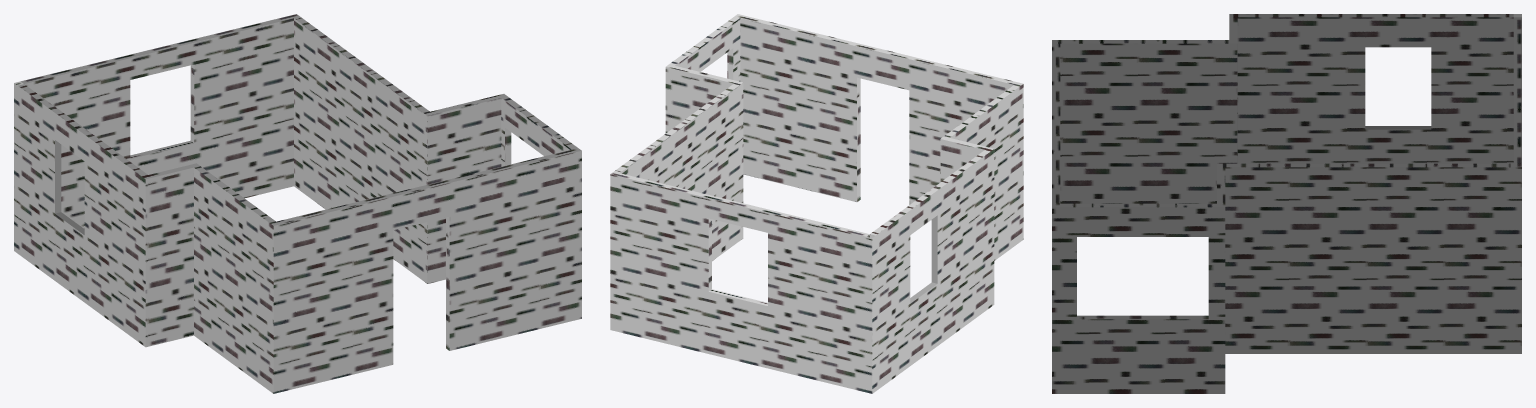
File: Wall_108f0dac.obj
3 renders of one model, left to right at view 1: azimuth 30°, elevation 25°; view 2: azimuth 150°, elevation 25°; view 3: azimuth 270°, elevation 25°, orthographic. The views are drawn at different scales.
Parts seen in each view (by area): view 1: Wall_108f0dac; view 2: Wall_108f0dac; view 3: Wall_108f0dac.
Boxes of the visible parts, x1,y1,x2,y2 form: Wall_108f0dac: (14, 14, 581, 393); Wall_108f0dac: (610, 14, 1023, 393); Wall_108f0dac: (1052, 14, 1521, 393).
Size of the model in its own units: 5.55 by 2.5 by 5.7.
